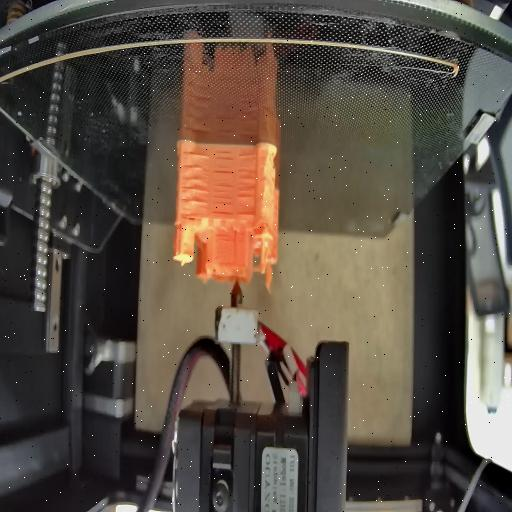cracks: (182, 150, 212, 206), (238, 154, 258, 200), (213, 148, 237, 178), (214, 184, 236, 216), (182, 216, 199, 228), (217, 232, 234, 242), (237, 212, 257, 220)
